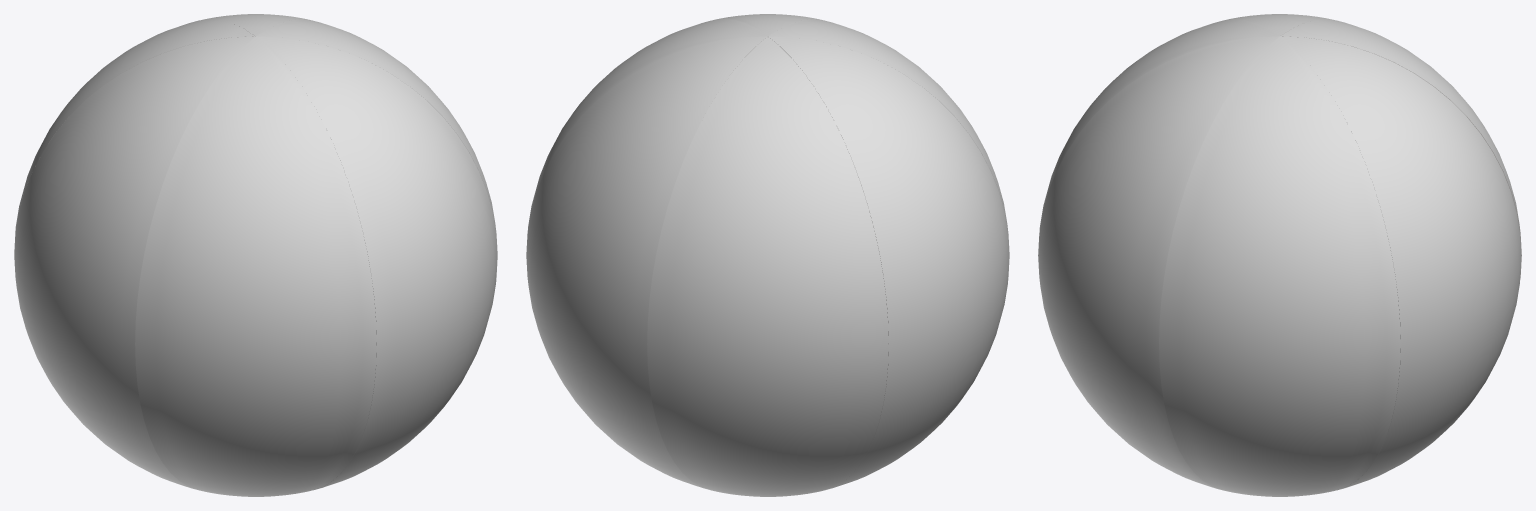
File: TouchBook_r7c-withNormal-05.gltf
3 renders of one model, left to right at view 1: azimuth 30°, elevation 25°; view 2: azimuth 150°, elevation 25°; view 3: azimuth 270°, elevation 25°, orthographic.
Parts seen in each view (by area): view 1: Slice 3, Slice 4, Slice 2-Shiny Shell, Slice 5, Slice 1-Shiny Shell, Slice 6-Shiny Shell; view 2: Slice 1-Shiny Shell, Slice 6-Shiny Shell, Slice 2-Shiny Shell, Slice 3, Slice 5, Slice 4; view 3: Slice 5, Slice 4, Slice 6-Shiny Shell, Slice 3, Slice 1-Shiny Shell, Slice 2-Shiny Shell.
Part boxes in pixels (left/top/right/bottom): Slice 3: left=135, top=36, right=376, bottom=496; Slice 4: left=256, top=36, right=497, bottom=489; Slice 2-Shiny Shell: left=14, top=36, right=255, bottom=489; Slice 5: left=256, top=19, right=497, bottom=277; Slice 1-Shiny Shell: left=14, top=19, right=254, bottom=250; Slice 6-Shiny Shell: left=202, top=14, right=312, bottom=35; Slice 1-Shiny Shell: left=647, top=37, right=888, bottom=496; Slice 6-Shiny Shell: left=526, top=36, right=767, bottom=488; Slice 2-Shiny Shell: left=768, top=36, right=1009, bottom=489; Slice 3: left=768, top=19, right=1009, bottom=276; Slice 5: left=527, top=19, right=767, bottom=231; Slice 4: left=713, top=14, right=824, bottom=35; Slice 5: left=1159, top=36, right=1400, bottom=496; Slice 4: left=1038, top=36, right=1279, bottom=489; Slice 6-Shiny Shell: left=1280, top=36, right=1521, bottom=490; Slice 3: left=1039, top=19, right=1279, bottom=230; Slice 1-Shiny Shell: left=1280, top=19, right=1520, bottom=232; Slice 2-Shiny Shell: left=1225, top=14, right=1334, bottom=35.
Bounding box in the file's own units: 200 × 200 × 200.
2 materials, 1 textured.
